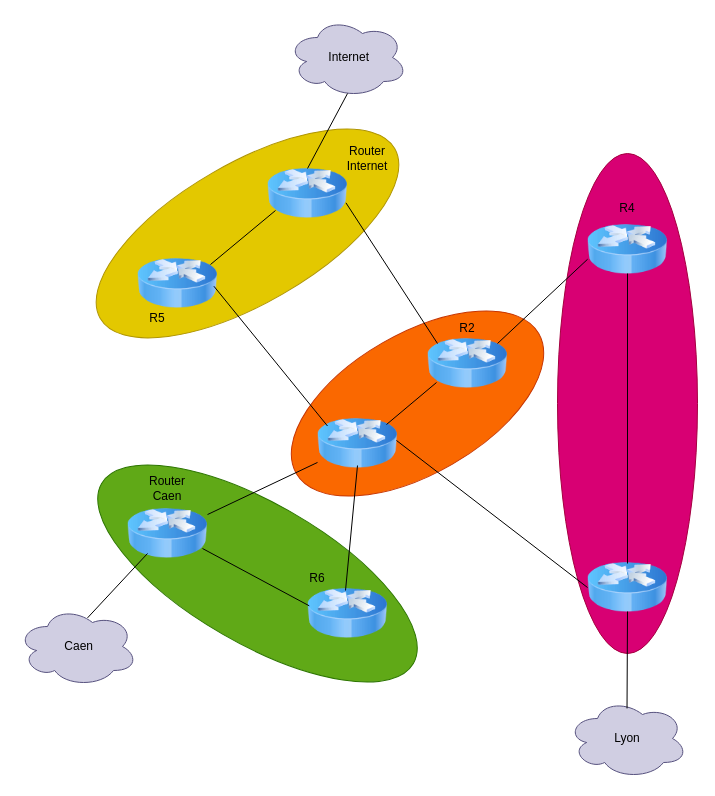
Some shapes in this 715 by 796 pixel diagram are drawn without their labels. The box of each missing label's shape, as (x1, y1, x2, y2) in pixels:
R1: (317, 403, 397, 483)
Router Lyon: (587, 547, 667, 627)
